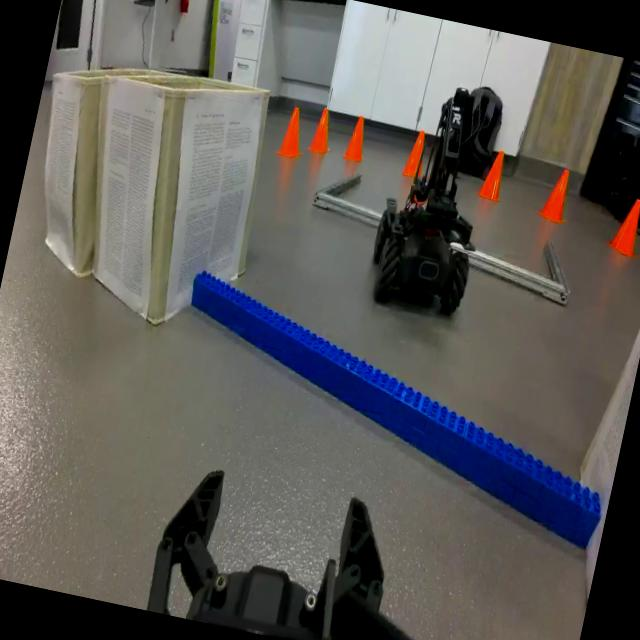cone: (599, 182, 640, 268), (535, 162, 578, 230), (272, 99, 314, 162), (475, 143, 512, 205), (338, 109, 374, 168), (398, 125, 432, 183), (307, 102, 338, 158)
metal barrier: (451, 238, 568, 308), (311, 172, 383, 229)
river: (191, 265, 601, 551)
robot: (360, 72, 511, 331)
storage cube: (90, 74, 271, 327), (42, 71, 104, 276)
